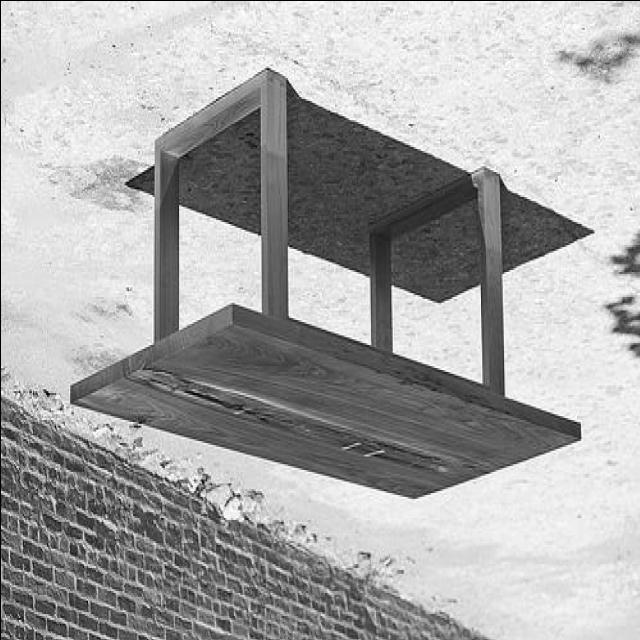table: (71, 70, 581, 502)
